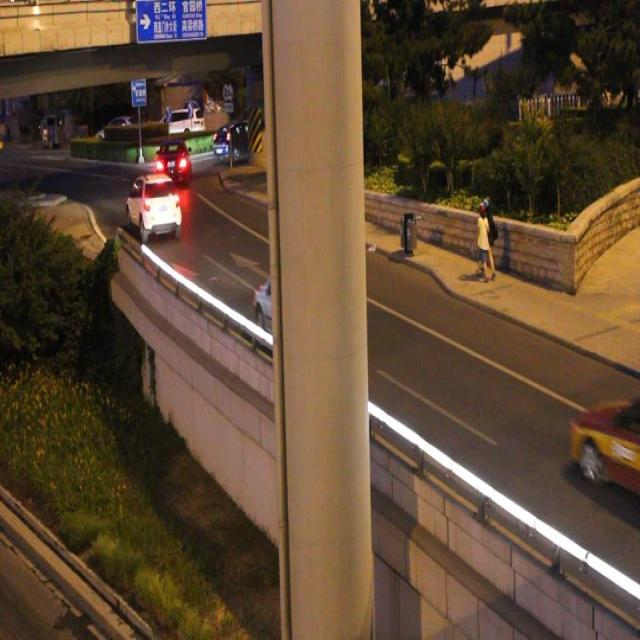car: (567, 377, 640, 493), (255, 257, 341, 349), (127, 175, 181, 239), (157, 140, 190, 181)
